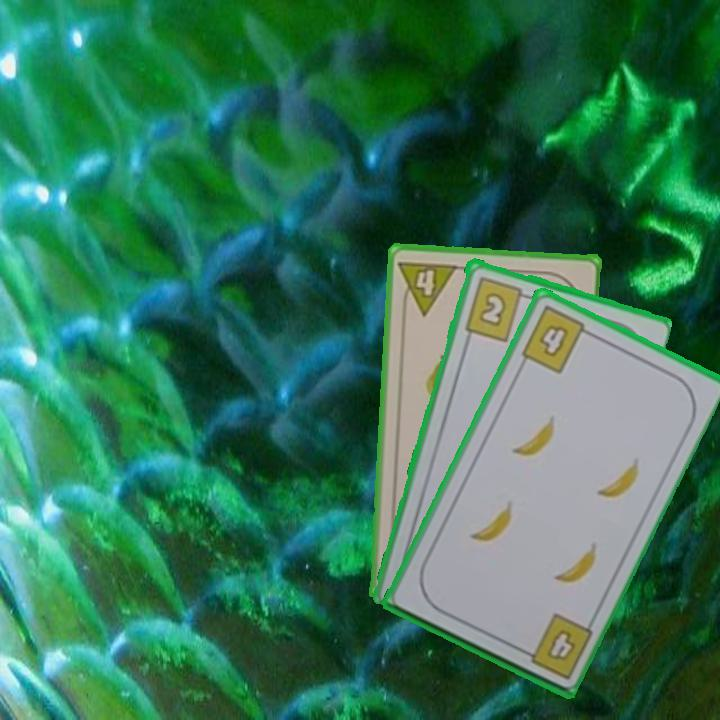2b: (461, 272, 533, 343)
4b: (517, 302, 596, 377), (515, 612, 595, 682)
4p: (395, 257, 460, 318)
